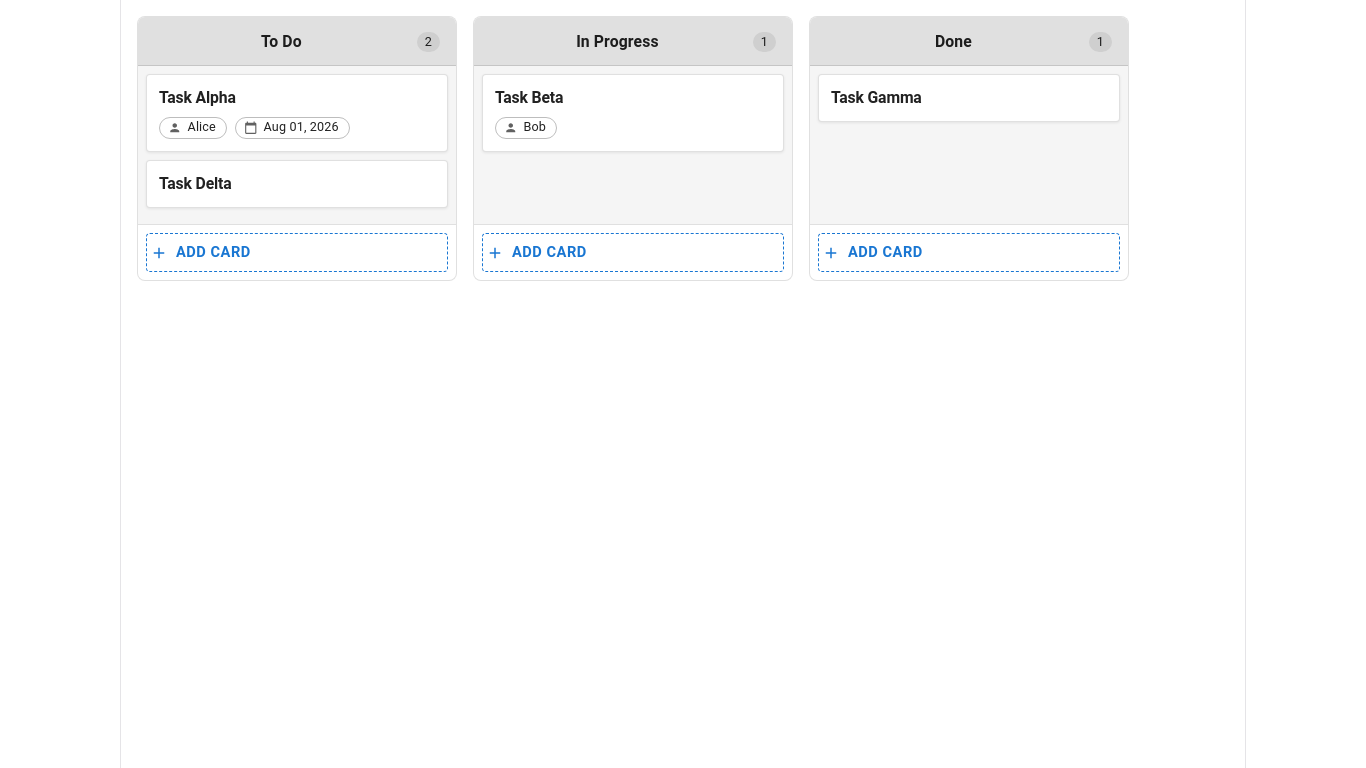
Test: KanbanBoard › closes Add dialog on Cancel
Click the button "Add card" below "To Do" at (213, 252), box [146,233,448,272]
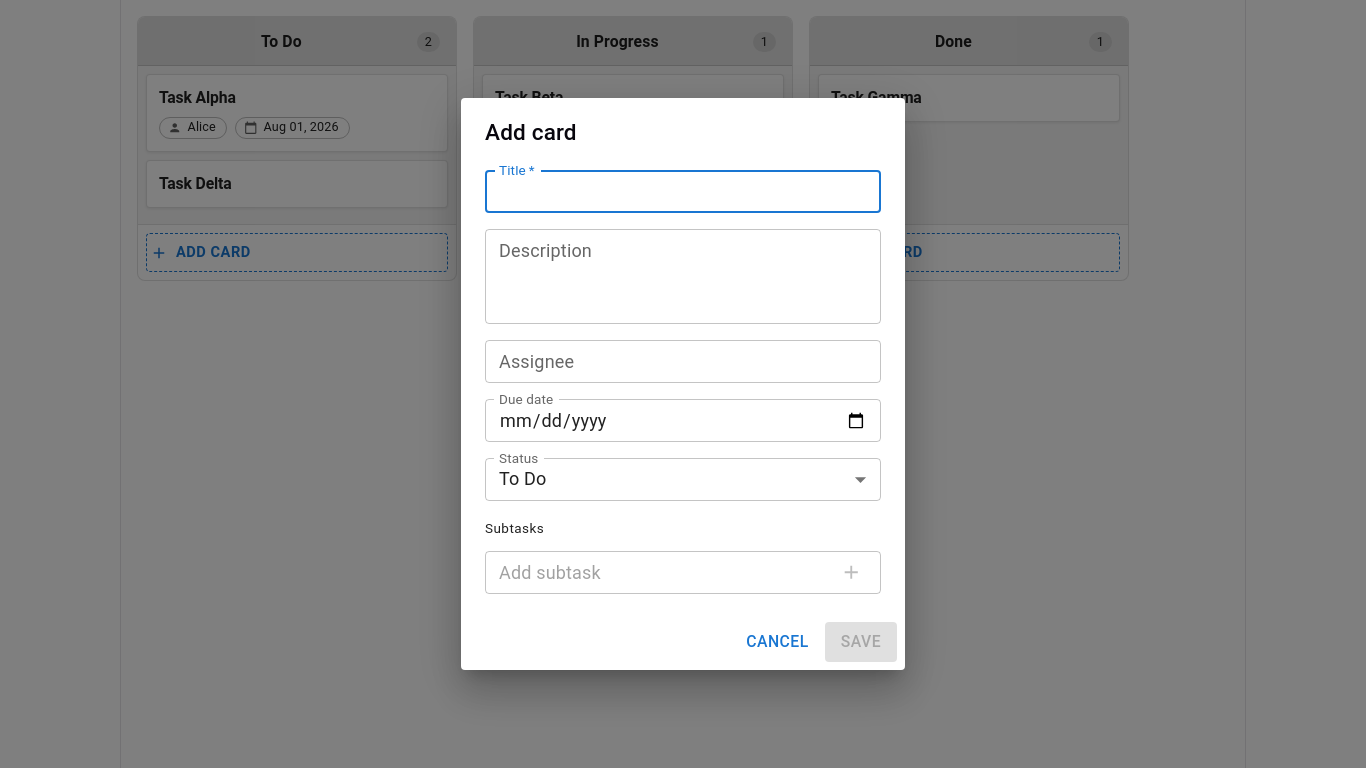
Click the button "Cancel" at (778, 642), box [738,622,817,662]
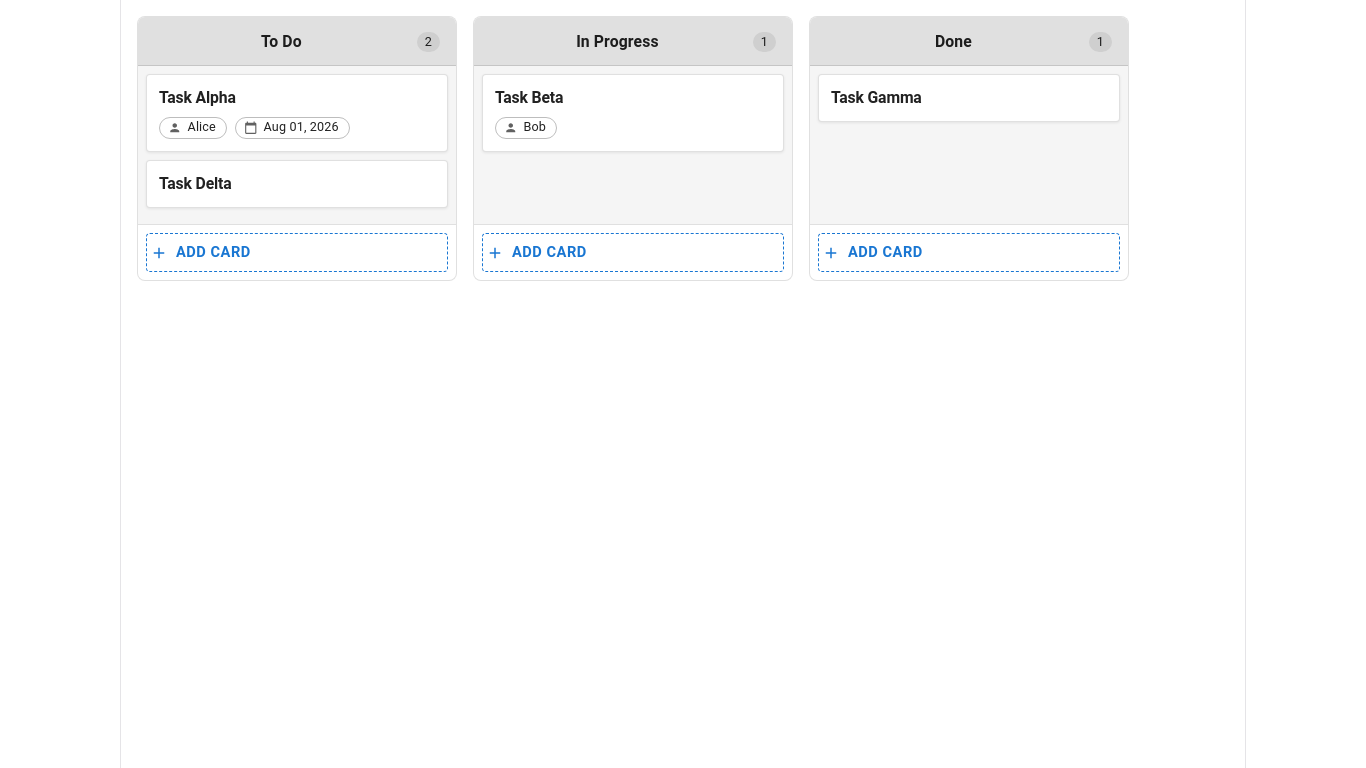
Expected: the dialog is gone
